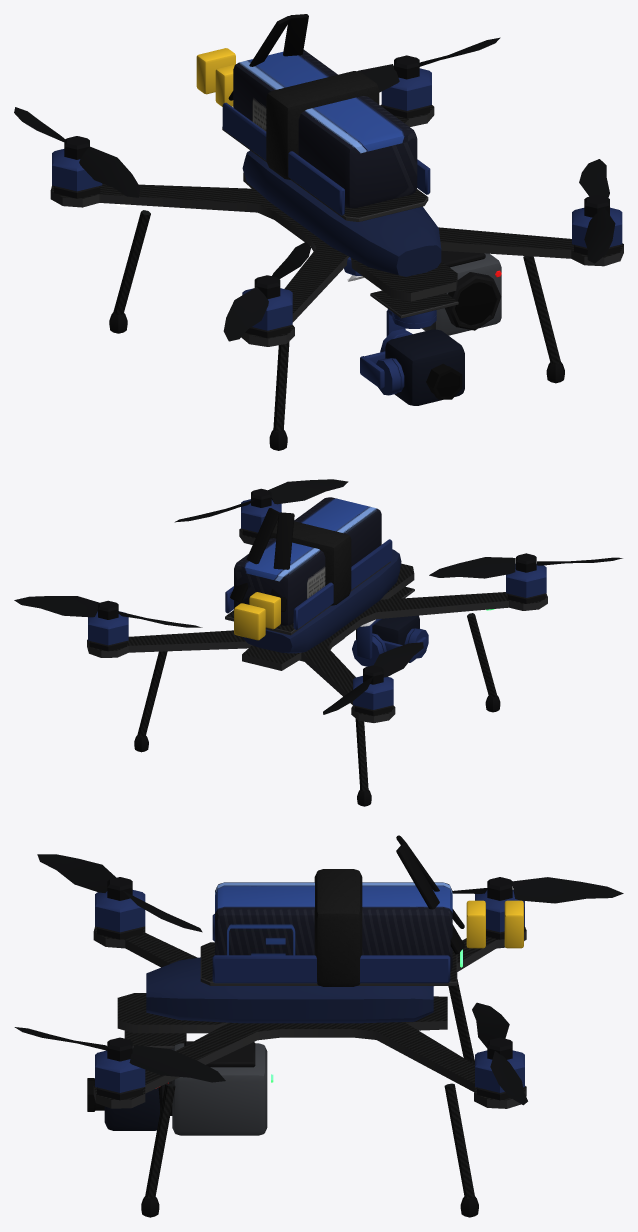
Rendered from nightowl_a_lod2.glb.
3 views of the same model, one above another, from view 1: azimuth 30°, elevation 25°; view 2: azimuth 150°, elevation 25°; view 3: azimuth 270°, elevation 25° (orthographic). The views are drawn at different scales.
Parts seen in each view (by area): view 1: body, battery, gimbal_pitch, nv_pod, prop_rr, prop_fr, prop_fl, prop_rl, nv_lens, gimbal_roll, gimbal_yaw; view 2: body, battery, prop_fr, prop_rl, prop_fl, prop_rr, gimbal_pitch, gimbal_yaw, gimbal_roll; view 3: body, battery, nv_pod, prop_fl, prop_rr, prop_fr, prop_rl, gimbal_pitch.
Boxes of the visible parts, x1=… form: body: x1=50, y1=14, x2=623, y2=450; battery: x1=215, y1=50, x2=417, y2=208; gimbal_pitch: x1=385, y1=329, x2=464, y2=405; nv_pod: x1=422, y1=250, x2=501, y2=335; prop_rr: x1=14, y1=107, x2=140, y2=197; prop_fr: x1=223, y1=242, x2=311, y2=341; prop_fl: x1=579, y1=159, x2=615, y2=263; prop_rl: x1=357, y1=37, x2=500, y2=92; nv_lens: x1=455, y1=282, x2=496, y2=325; gimbal_roll: x1=360, y1=333, x2=411, y2=395; gimbal_yaw: x1=380, y1=309, x2=436, y2=352; body: x1=87, y1=499, x2=547, y2=806; battery: x1=234, y1=497, x2=381, y2=628; prop_fr: x1=429, y1=553, x2=622, y2=578; prop_rl: x1=14, y1=596, x2=202, y2=627; prop_fl: x1=174, y1=479, x2=348, y2=522; prop_rr: x1=323, y1=642, x2=423, y2=714; gimbal_pitch: x1=356, y1=615, x2=419, y2=645; gimbal_yaw: x1=352, y1=618, x2=383, y2=666; gimbal_roll: x1=372, y1=628, x2=428, y2=662; body: x1=93, y1=835, x2=526, y2=1217; battery: x1=215, y1=882, x2=485, y2=971; nv_pod: x1=160, y1=1041, x2=267, y2=1135; prop_fl: x1=14, y1=1027, x2=225, y2=1082; prop_rr: x1=452, y1=877, x2=623, y2=903; prop_fr: x1=37, y1=854, x2=202, y2=932; prop_rl: x1=472, y1=1002, x2=527, y2=1105; gimbal_pitch: x1=87, y1=1078, x2=159, y2=1130.
Bounding box in the file's own units: 0.2501 × 0.1419 × 0.2569.
26 materials, 4 textured.
